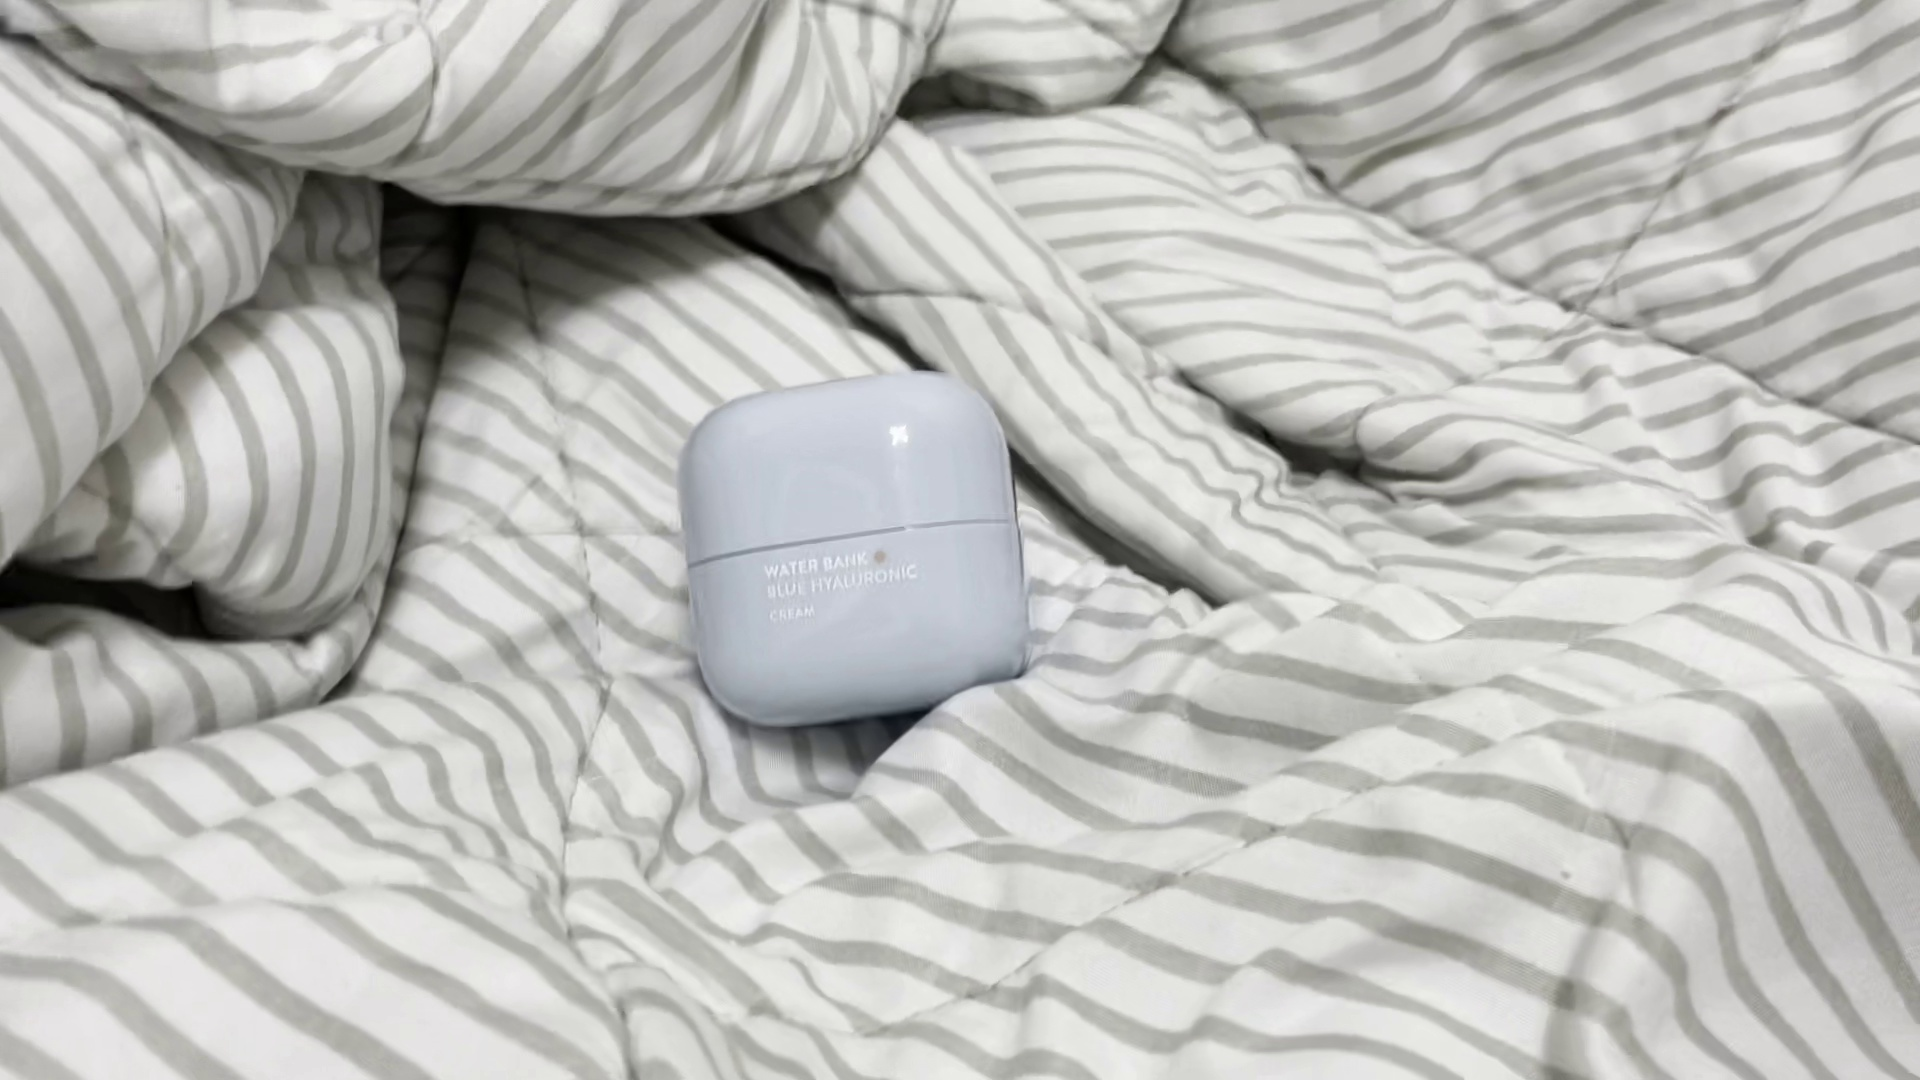cream: (683, 367, 1029, 729)
